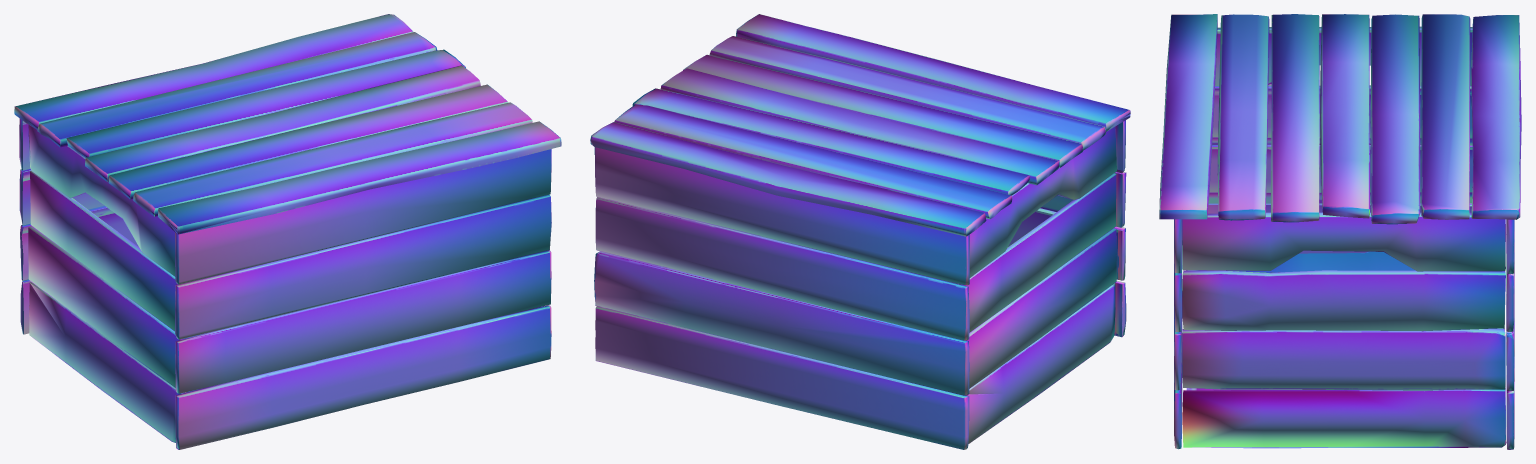
File: pixel-woodenbox.glb
3 views of the same model, side by side, from view 1: azimuth 30°, elevation 25°; view 2: azimuth 150°, elevation 25°; view 3: azimuth 270°, elevation 25° (orthographic). The views are drawn at different scales.
Visible parts, largest first — view 1: Object_2; view 2: Object_2; view 3: Object_2.
Part boxes in pixels (x1,y1,x2,y2): Object_2: (14,14,561,449); Object_2: (590,14,1130,449); Object_2: (1159,14,1521,449).
Bounding box in the file's own units: 0.9685 × 0.5533 × 0.744.
Materials: 1 (1 with a texture image).
